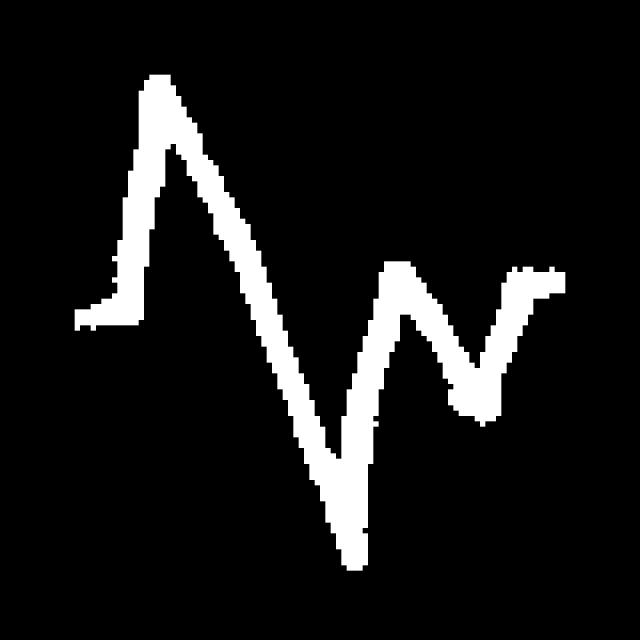resistor: (108, 69, 532, 593)
